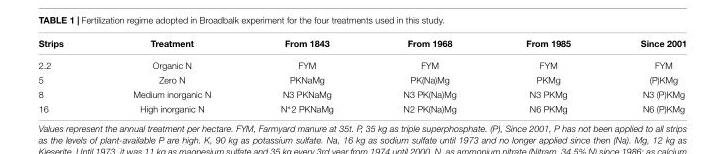table: (37, 37, 686, 114)
table column: (97, 37, 245, 114), (367, 37, 490, 114), (245, 37, 367, 114), (490, 37, 604, 114), (604, 37, 686, 114), (37, 37, 97, 114)
table column header: (37, 37, 686, 53)
table row: (37, 53, 686, 71), (37, 37, 686, 53), (37, 71, 686, 86), (37, 86, 686, 100), (37, 100, 686, 114)
